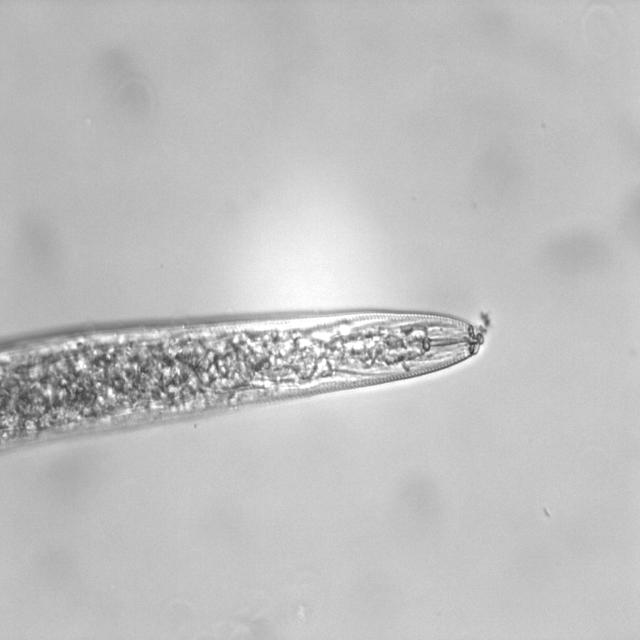Pratylenchus: (141, 302, 508, 442)
